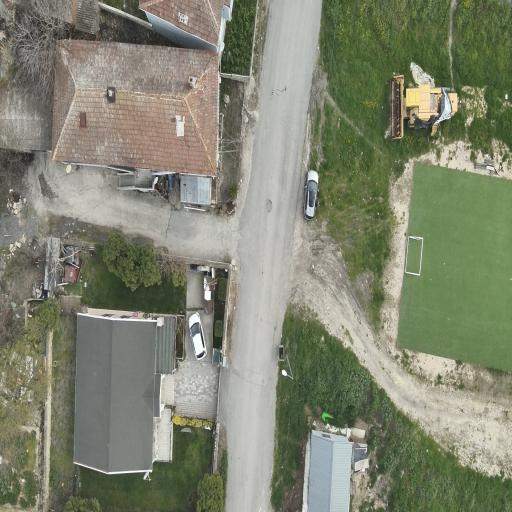car: (188, 312, 205, 360), (303, 171, 317, 220)
harvester: (389, 75, 456, 139)
